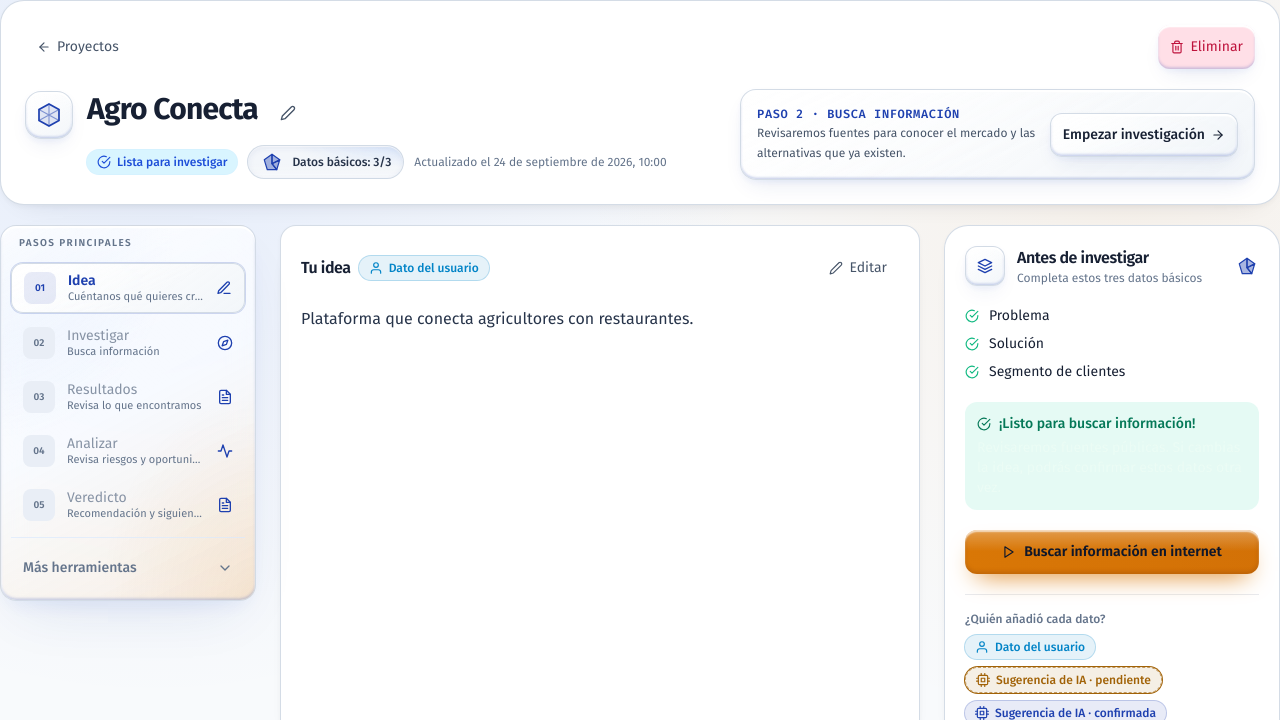
Scenario: Iniciar investigación › desde el panel de estructura lanza la investigación y abre su pestaña
The image size is (1280, 720).
Step 1. Click the button "Buscar información en internet" → coordinates (1112, 552), box [965, 530, 1259, 574]
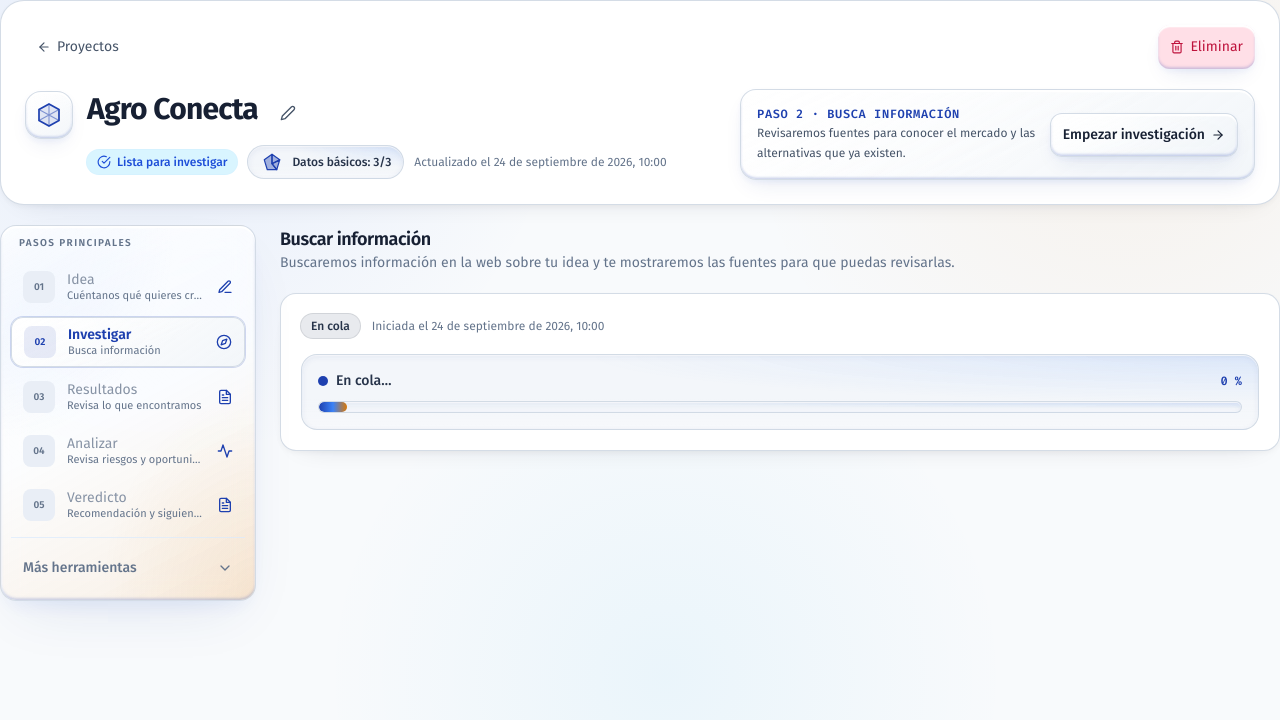
Check: the text "En cola" is shown, box [301, 314, 360, 338]
